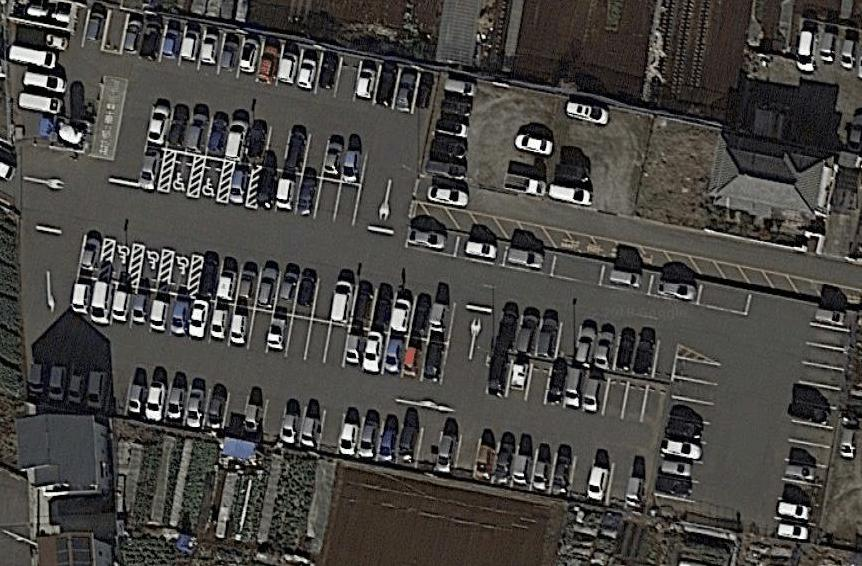parkingspot: (23, 359, 656, 517), (69, 275, 450, 390), (116, 9, 444, 120), (403, 222, 753, 317), (195, 254, 458, 346), (769, 301, 860, 545), (144, 102, 371, 187), (491, 306, 682, 385), (482, 351, 671, 428), (650, 354, 725, 504), (254, 166, 363, 230), (421, 74, 479, 183), (6, 25, 70, 115), (796, 22, 862, 77), (71, 3, 113, 53), (166, 149, 198, 199), (76, 230, 107, 281), (136, 145, 168, 194), (196, 154, 227, 204), (164, 249, 195, 298), (225, 161, 256, 210), (136, 244, 166, 293), (106, 238, 136, 286)
